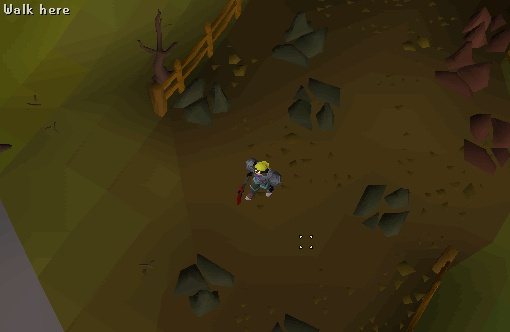coal: (345, 172, 414, 238), (278, 73, 347, 139), (165, 68, 234, 134), (169, 251, 238, 317)
iron: (425, 34, 499, 114)
